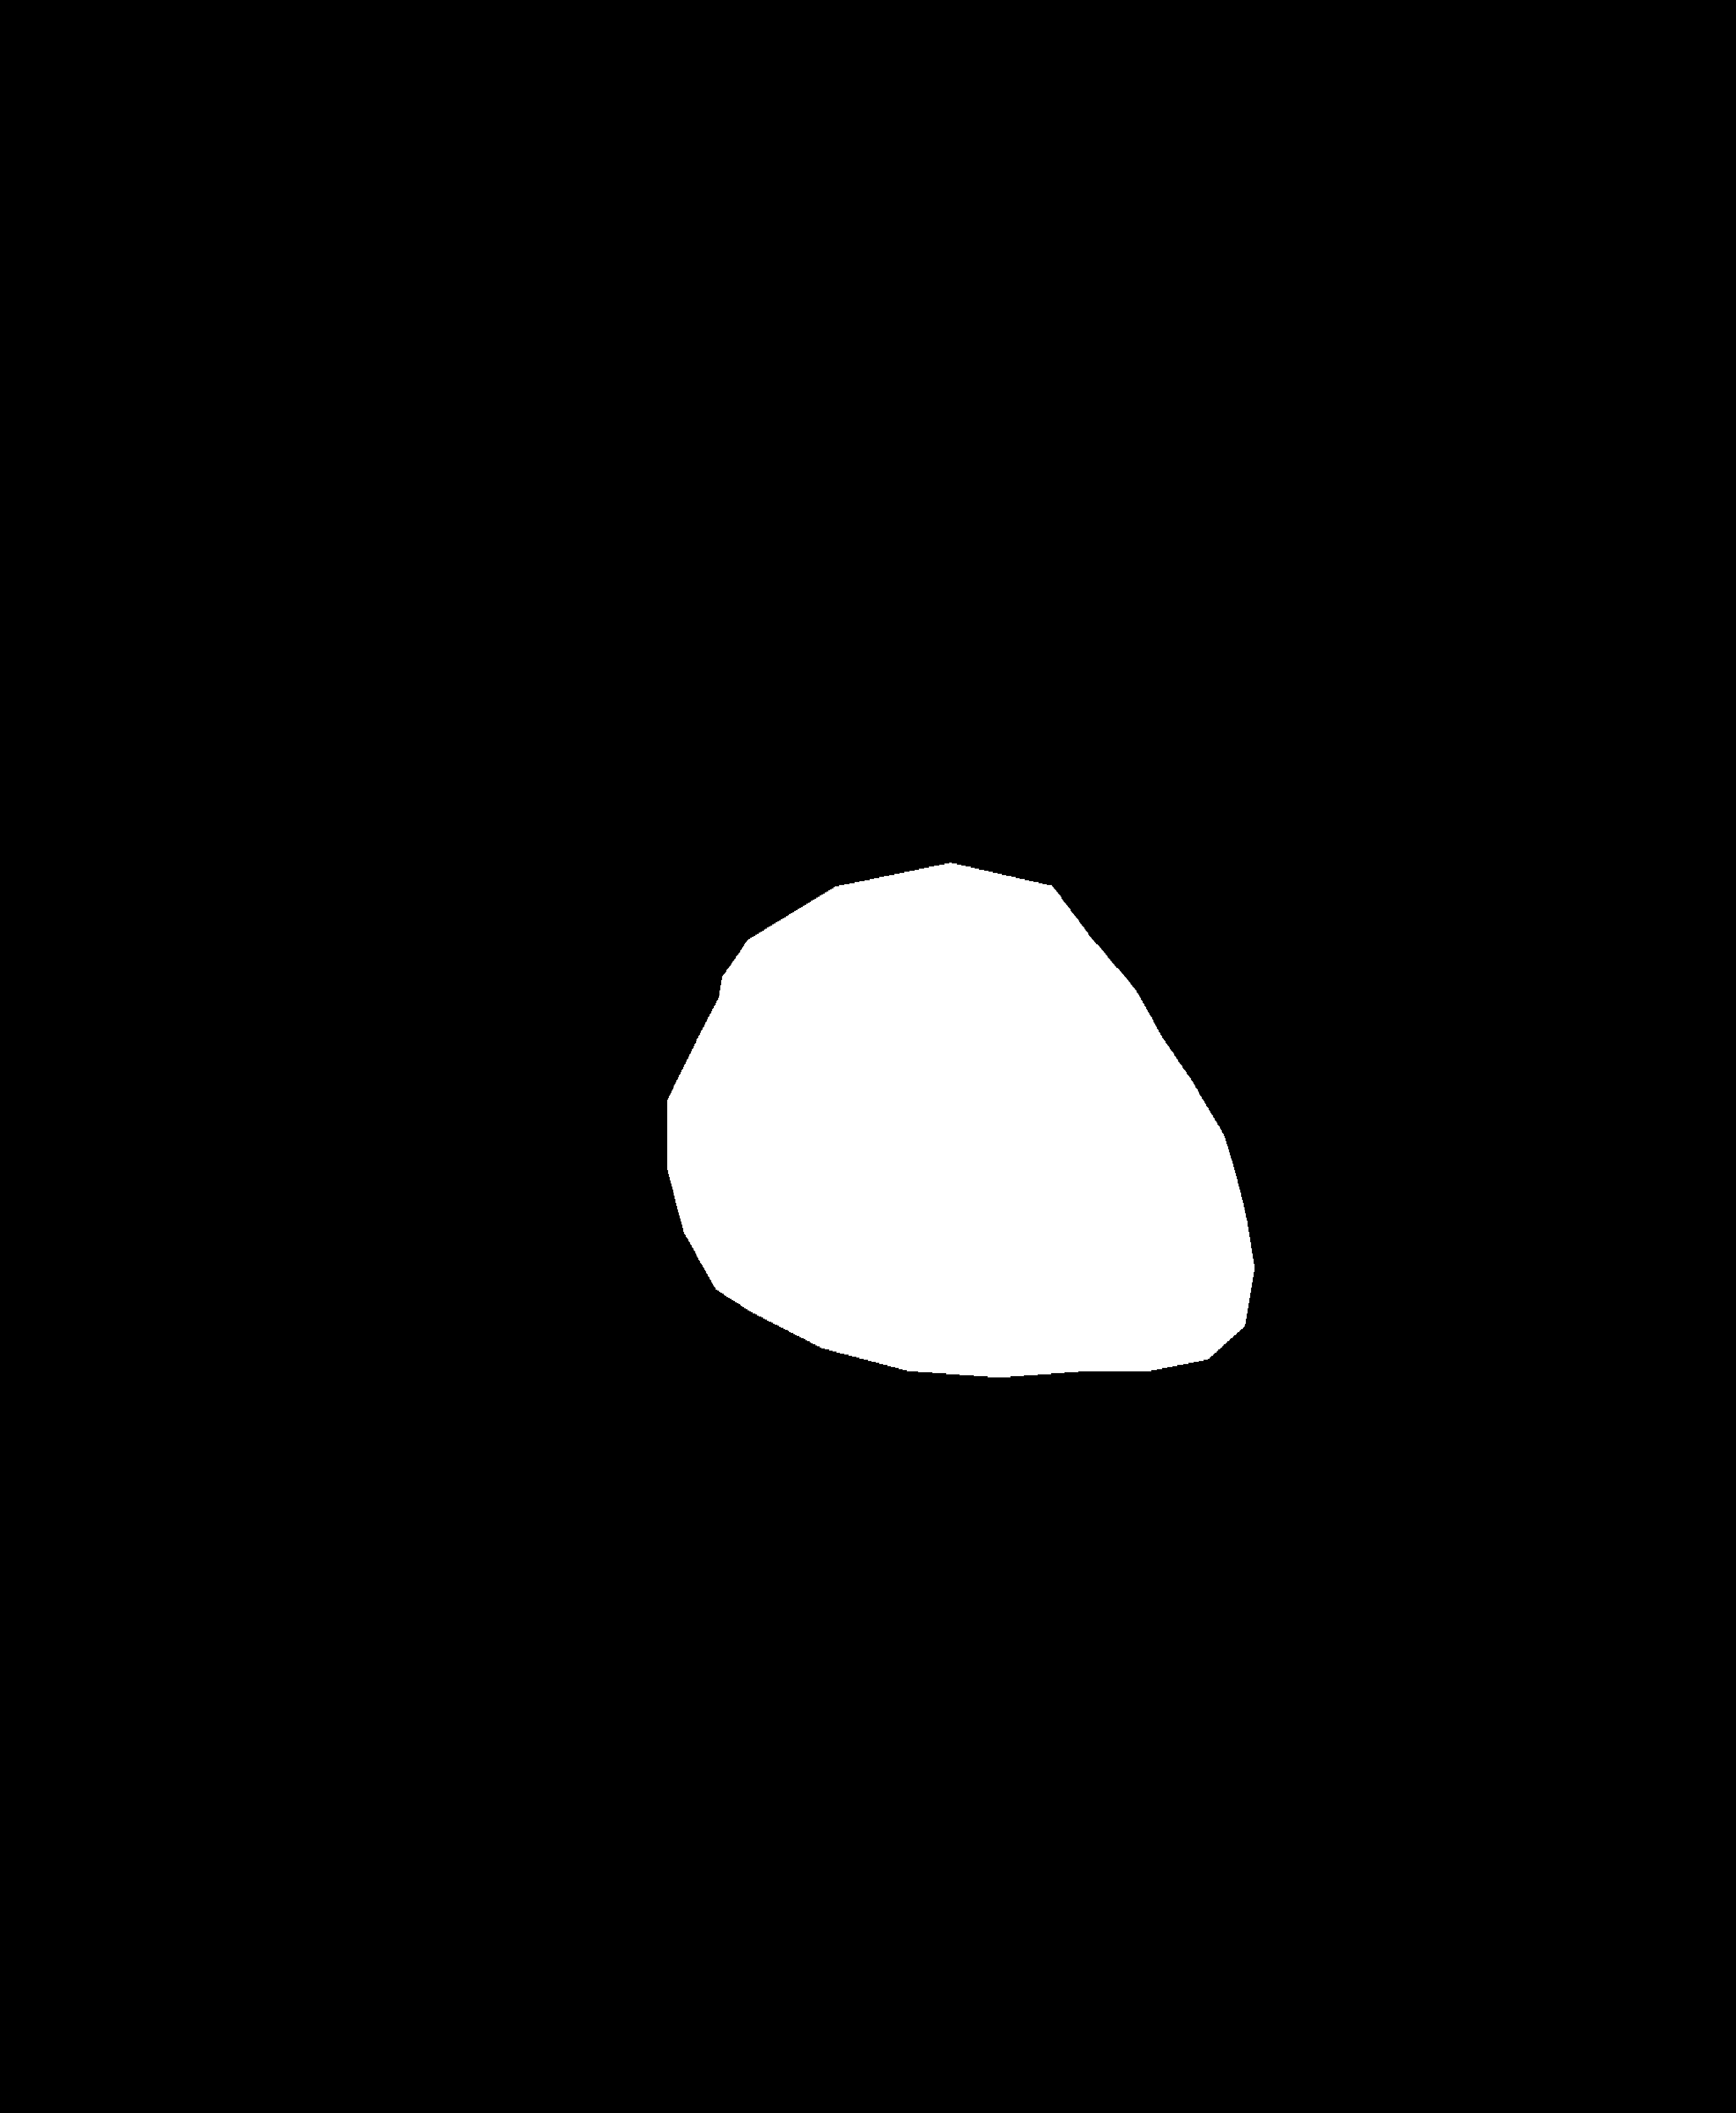heart: (662, 939, 1255, 1397)
left_lung: (125, 277, 795, 1536)
right_lung: (915, 277, 1597, 1613)
